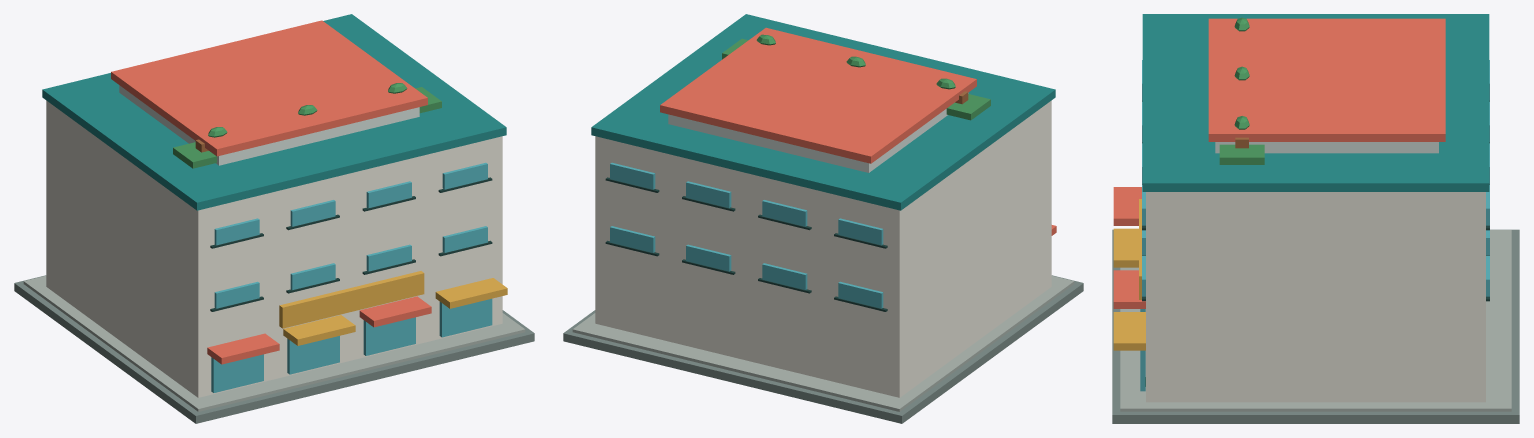
File: market_lv3.glb
The picture shows the model from 3 angles, left to right: view 1: azimuth 30°, elevation 25°; view 2: azimuth 150°, elevation 25°; view 3: azimuth 270°, elevation 25°; orthographic projection. The views are drawn at different scales.
Visible parts, largest first — view 1: ivory, coral, teal, glass, concrete, pavement, gold, white, green, dark; view 2: ivory, coral, teal, concrete, pavement, glass, white, green, dark; view 3: ivory, coral, teal, concrete, pavement, gold, white, green, glass.
Boxes of the visible parts, x1,y1,x2,y2 form: ivory: [46, 100, 502, 397]; coral: [111, 20, 431, 364]; teal: [42, 14, 506, 210]; glass: [211, 162, 492, 392]; concrete: [23, 276, 525, 411]; pavement: [14, 275, 534, 423]; gold: [279, 271, 507, 345]; white: [119, 85, 419, 165]; green: [173, 83, 441, 168]; dark: [210, 177, 492, 311]; ivory: [595, 100, 1051, 397]; coral: [660, 27, 1056, 235]; teal: [591, 14, 1055, 210]; concrete: [572, 276, 1074, 411]; pavement: [563, 275, 1083, 423]; glass: [610, 162, 883, 308]; white: [668, 93, 968, 172]; green: [722, 34, 990, 120]; dark: [605, 177, 887, 311]; ivory: [1146, 192, 1485, 402]; coral: [1113, 18, 1445, 308]; teal: [1142, 14, 1489, 191]; concrete: [1120, 230, 1511, 411]; pavement: [1112, 229, 1519, 423]; gold: [1113, 199, 1145, 350]; white: [1215, 142, 1438, 153]; green: [1145, 17, 1264, 386]; glass: [1140, 60, 1489, 391].
Bounding box in the file's own units: 9.8 × 6.48 × 9.1.
